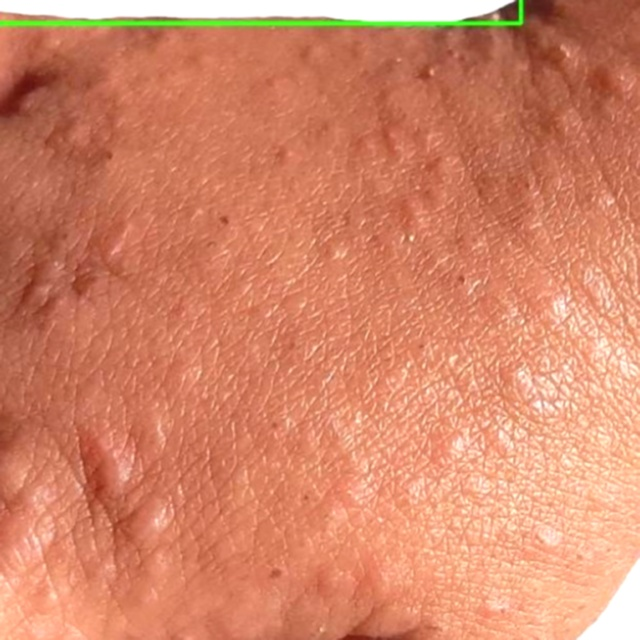Contact Dermatitis: (0, 0, 520, 23)
